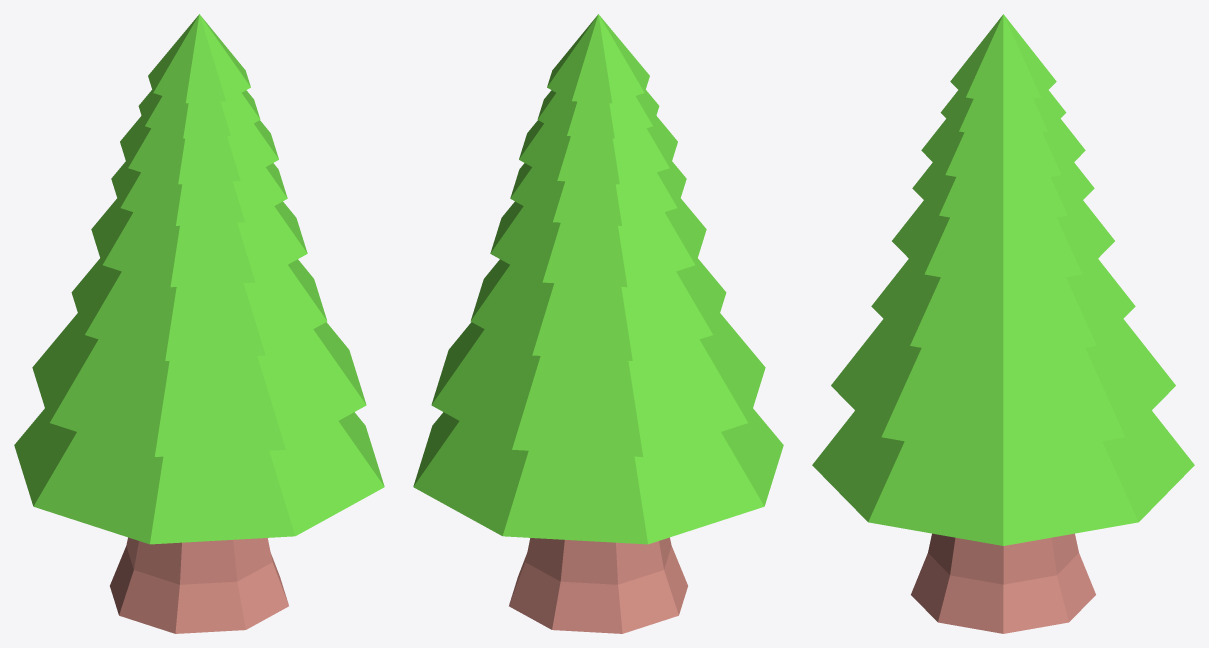
File: Tree1.fbx
3 renders of one model, left to right at view 1: azimuth 30°, elevation 25°; view 2: azimuth 150°, elevation 25°; view 3: azimuth 270°, elevation 25°, orthographic.
Parts seen in each view (by area): view 1: Cone; view 2: Cone; view 3: Cone.
Boxes of the visible parts, x1=… form: Cone: x1=14, y1=14, x2=384, y2=633; Cone: x1=413, y1=14, x2=783, y2=633; Cone: x1=812, y1=14, x2=1194, y2=633.
Size of the model in its own units: 4.21 by 7.04 by 4.21.
